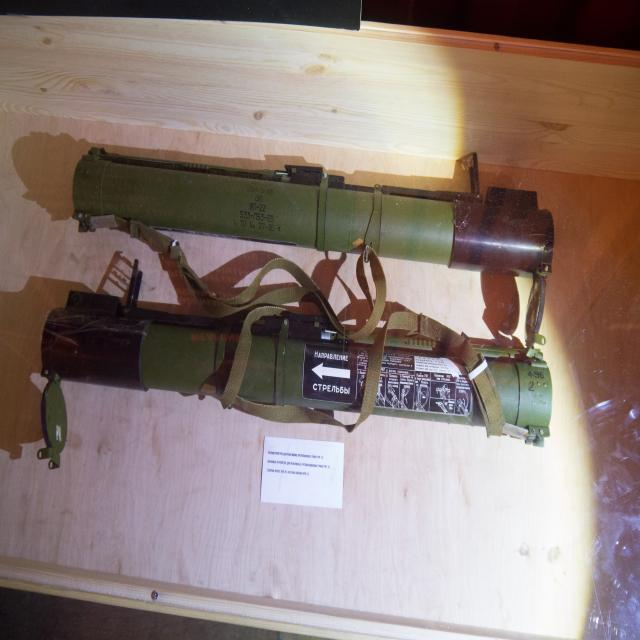bazooka: (27, 145, 557, 476)
